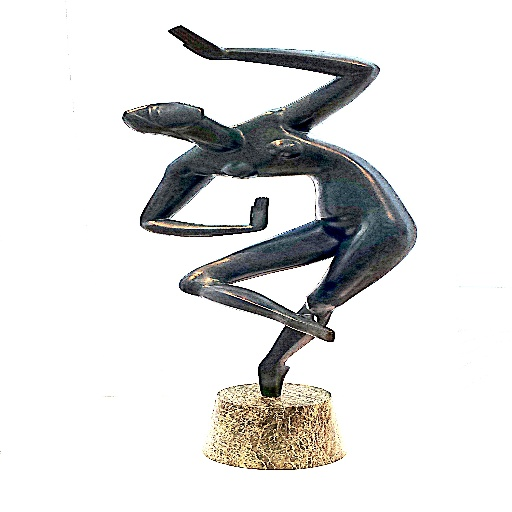hand: (165, 25, 222, 59), (246, 194, 270, 230)
